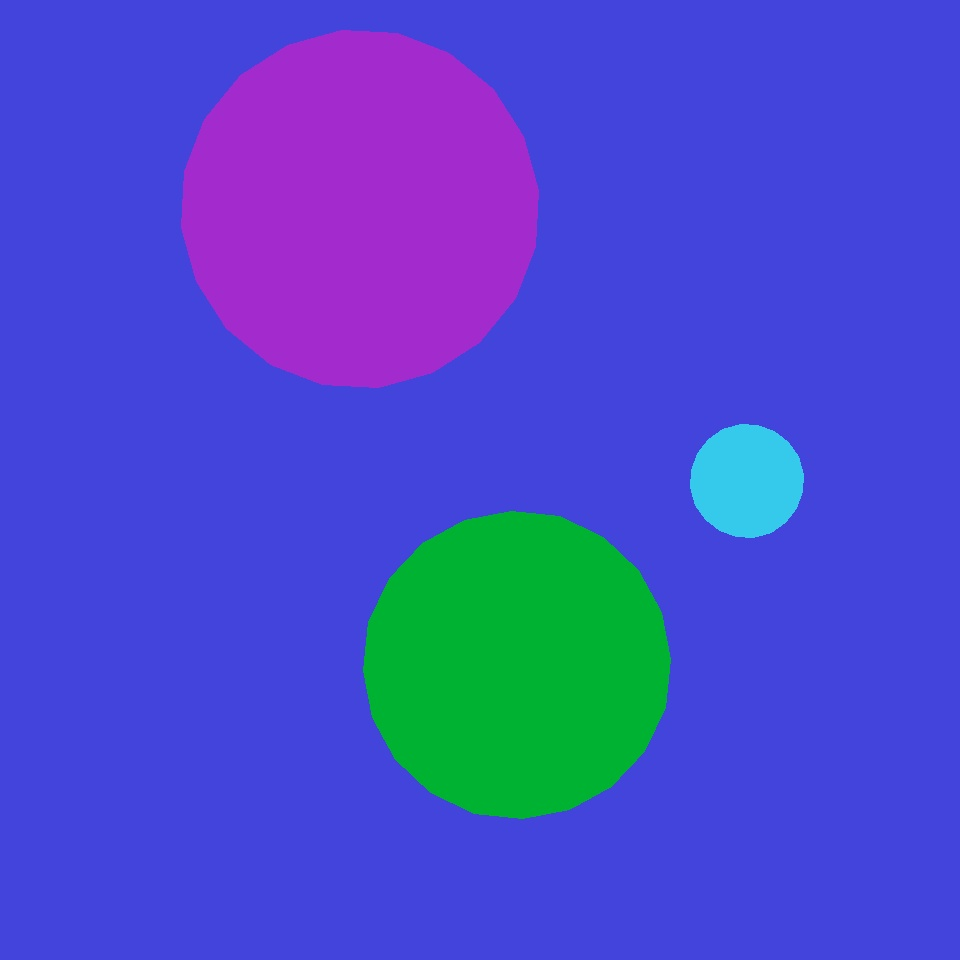circle: (534, 176, 795, 450)
square: (623, 471, 871, 719), (185, 283, 418, 516)
triangle: (182, 30, 538, 388), (364, 512, 670, 818), (461, 554, 612, 706), (690, 425, 804, 538)
